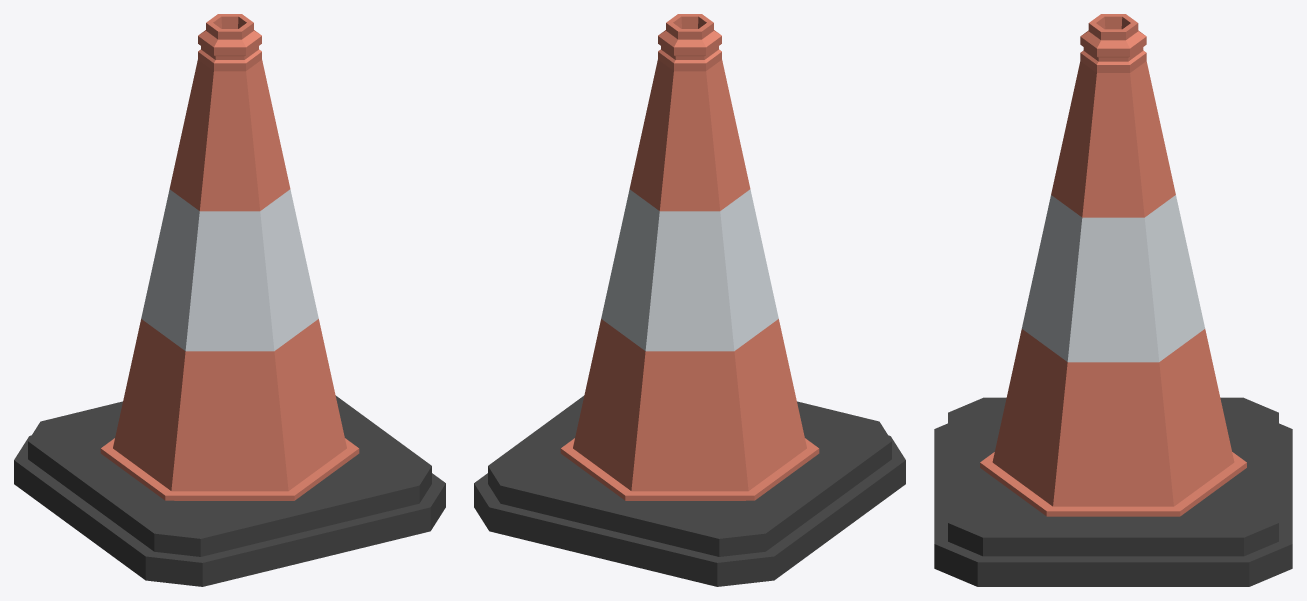
The picture shows the model from 3 angles, left to right: view 1: azimuth 30°, elevation 25°; view 2: azimuth 150°, elevation 25°; view 3: azimuth 270°, elevation 25°; orthographic projection. The views are drawn at different scales.
Visible parts, largest first — view 1: Cone_Cube; view 2: Cone_Cube; view 3: Cone_Cube.
Part boxes in pixels (<box>): Cone_Cube: <box>14,14,445,586</box>; Cone_Cube: <box>474,14,905,586</box>; Cone_Cube: <box>934,14,1292,586</box>.
Bounding box in the file's own units: 0.6 × 0.903 × 0.6.
Materials: 1 (1 with a texture image).
